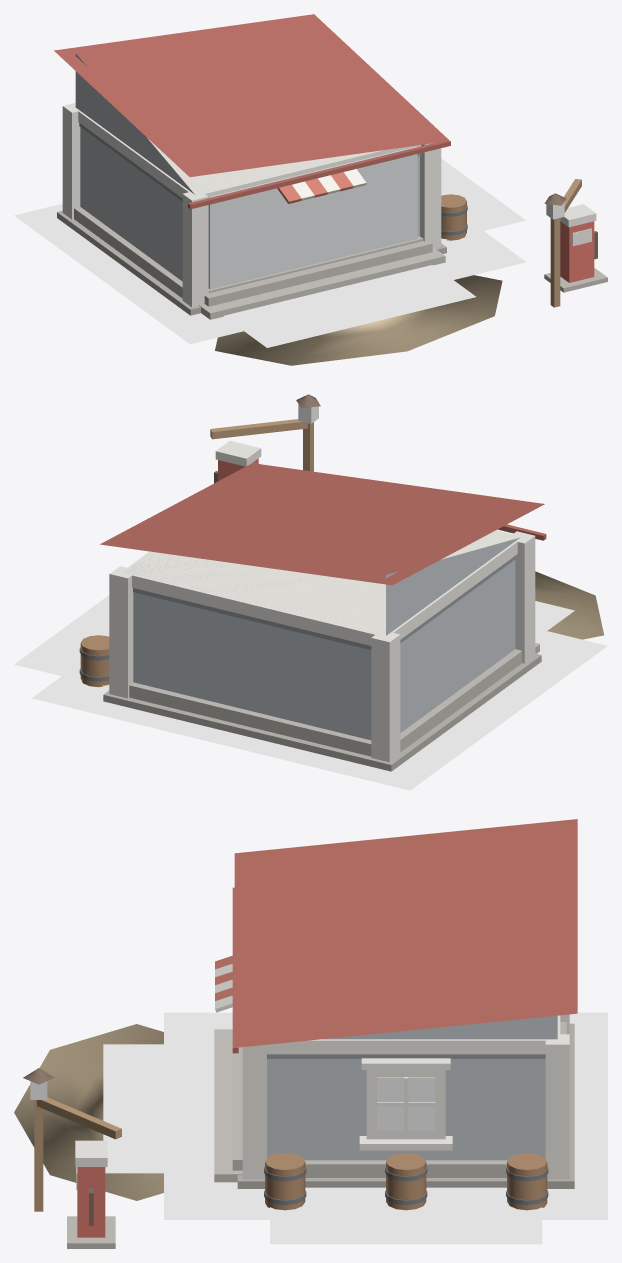
File: garage_1.glb
3 renders of one model, top to bottom at view 1: azimuth 30°, elevation 25°; view 2: azimuth 150°, elevation 25°; view 3: azimuth 270°, elevation 25°, orthographic. The views are drawn at different scales.
Parts seen in each view (by area): view 1: body2, garage_1, body; view 2: body2, garage_1; view 3: body2, garage_1.
Boxes of the visible parts, x1,y1,x2,y2 form: body2: (54, 14, 607, 365); garage_1: (14, 158, 526, 347); body: (208, 146, 417, 289); body2: (79, 394, 603, 771); garage_1: (14, 595, 607, 790); body2: (14, 819, 577, 1248); garage_1: (103, 1012, 607, 1244).
Bounding box in the file's own units: 2.61 × 1.13 × 2.8.
